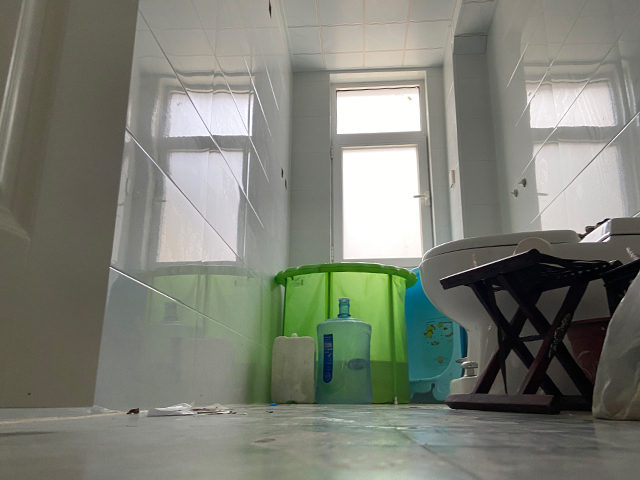closestool: (418, 216, 640, 396)
stool: (437, 248, 623, 416)
